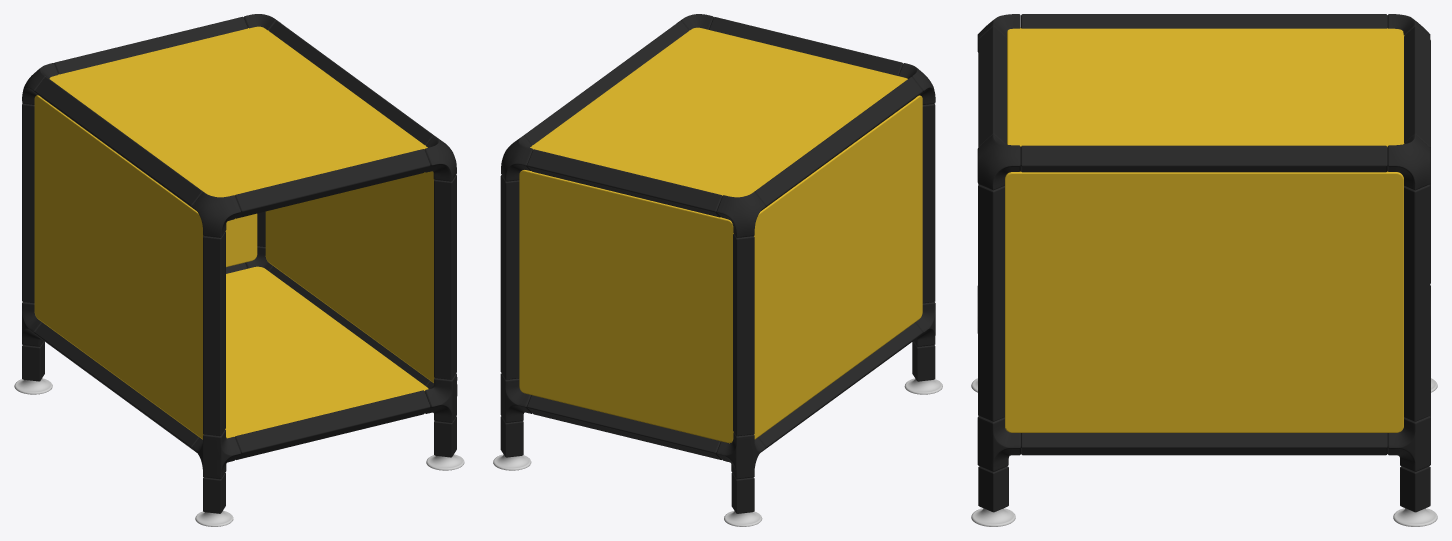
The picture shows the model from 3 angles, left to right: view 1: azimuth 30°, elevation 25°; view 2: azimuth 150°, elevation 25°; view 3: azimuth 270°, elevation 25°; orthographic projection. The views are drawn at different scales.
Visible parts, largest first — view 1: 229x329x229; view 2: 229x329x229; view 3: 229x329x229.
Part boxes in pixels (bbox=[...]): 229x329x229: bbox=[14, 14, 464, 526]; 229x329x229: bbox=[493, 14, 942, 526]; 229x329x229: bbox=[971, 14, 1437, 526].
Bounding box in the file's own units: 0.3189 × 0.3682 × 0.4182.
